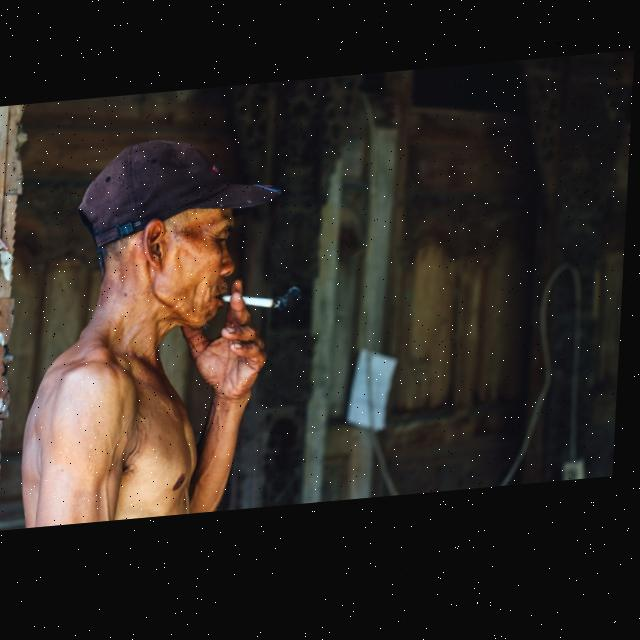cigarette: (220, 296, 278, 318)
